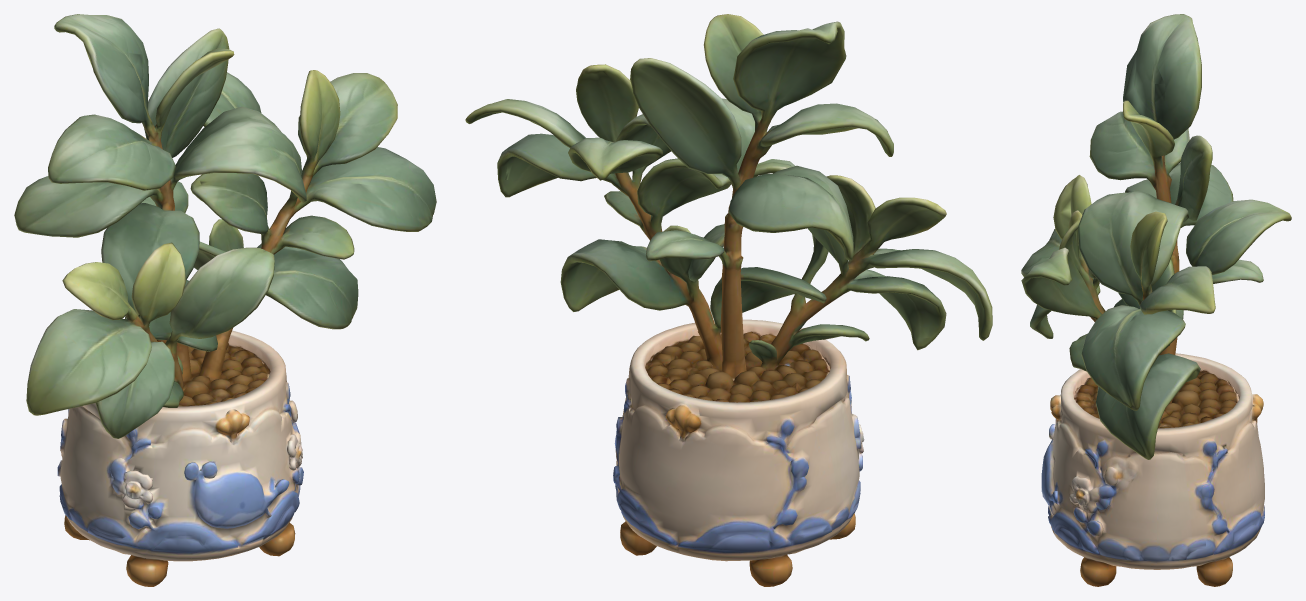
Rendered from whale-plant-v1.glb.
3 views of the same model, side by side, from view 1: azimuth 30°, elevation 25°; view 2: azimuth 150°, elevation 25°; view 3: azimuth 270°, elevation 25° (orthographic). The views are drawn at different scales.
Parts seen in each view (by area): view 1: whale-plant-v1; view 2: whale-plant-v1; view 3: whale-plant-v1.
Part boxes in pixels (x1=…): whale-plant-v1: x1=14, y1=14, x2=436, y2=586; whale-plant-v1: x1=465, y1=14, x2=992, y2=586; whale-plant-v1: x1=1021, y1=14, x2=1291, y2=586.
Size of the model in its own units: 0.8236 by 0.95 by 0.4704.
1 material, 1 textured.
